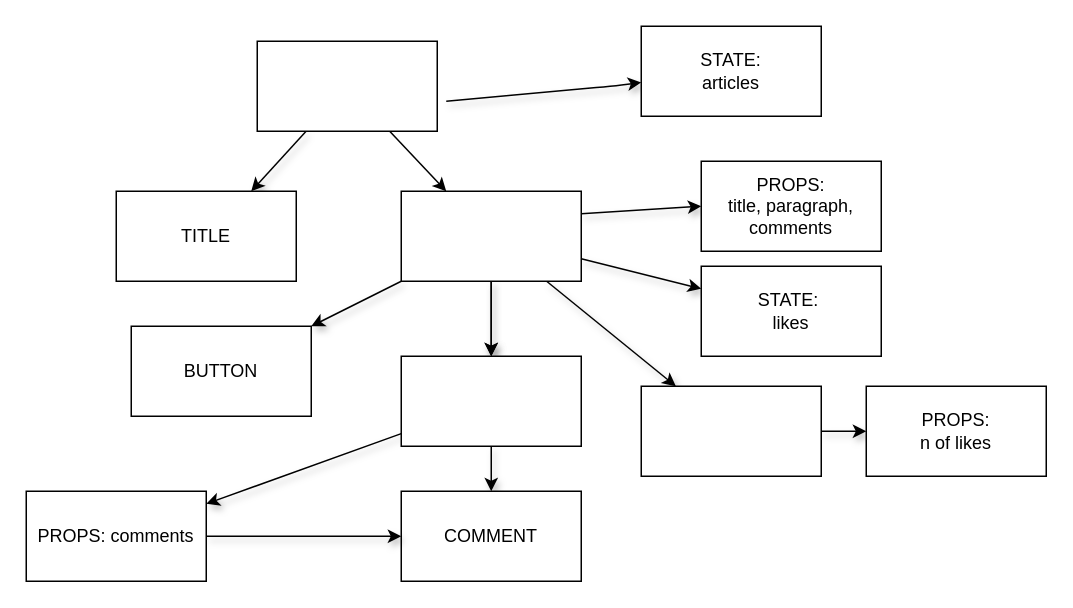
The diagram is 1073 pixels wide and 608 high, and some of its shapes have lost their labels. The centre of each missing label's shape, as x and y in pixels:
"APP" goes at point (346, 85).
"ARTICLE" goes at point (490, 235).
"COMMENTS SECTION" goes at point (490, 400).
"LIKES BAR" goes at point (730, 430).
